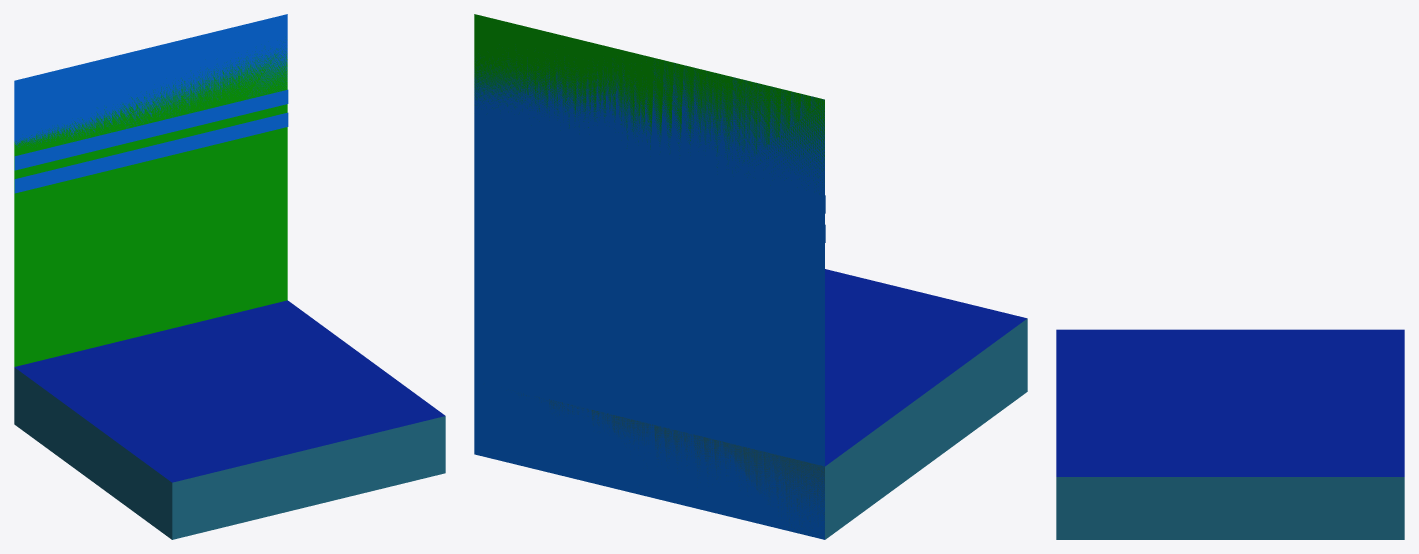
The model's file is arcade_tile_wall.fbx.
3 renders of one model, left to right at view 1: azimuth 30°, elevation 25°; view 2: azimuth 150°, elevation 25°; view 3: azimuth 270°, elevation 25°, orthographic. The views are drawn at different scales.
Visible parts, largest first — view 1: tile_floor, wall_backface073, wall014; view 2: wall014, tile_floor, wall_backface073; view 3: tile_floor.
Boxes of the visible parts, <box> form: tile_floor: <box>14,300,445,539</box>; wall_backface073: <box>14,48,287,366</box>; wall014: <box>14,14,288,193</box>; wall014: <box>474,57,825,539</box>; tile_floor: <box>521,269,1027,539</box>; wall_backface073: <box>474,14,824,185</box>; tile_floor: <box>1056,329,1404,539</box>.
Bounding box in the file's own units: 5 × 6 × 5.
